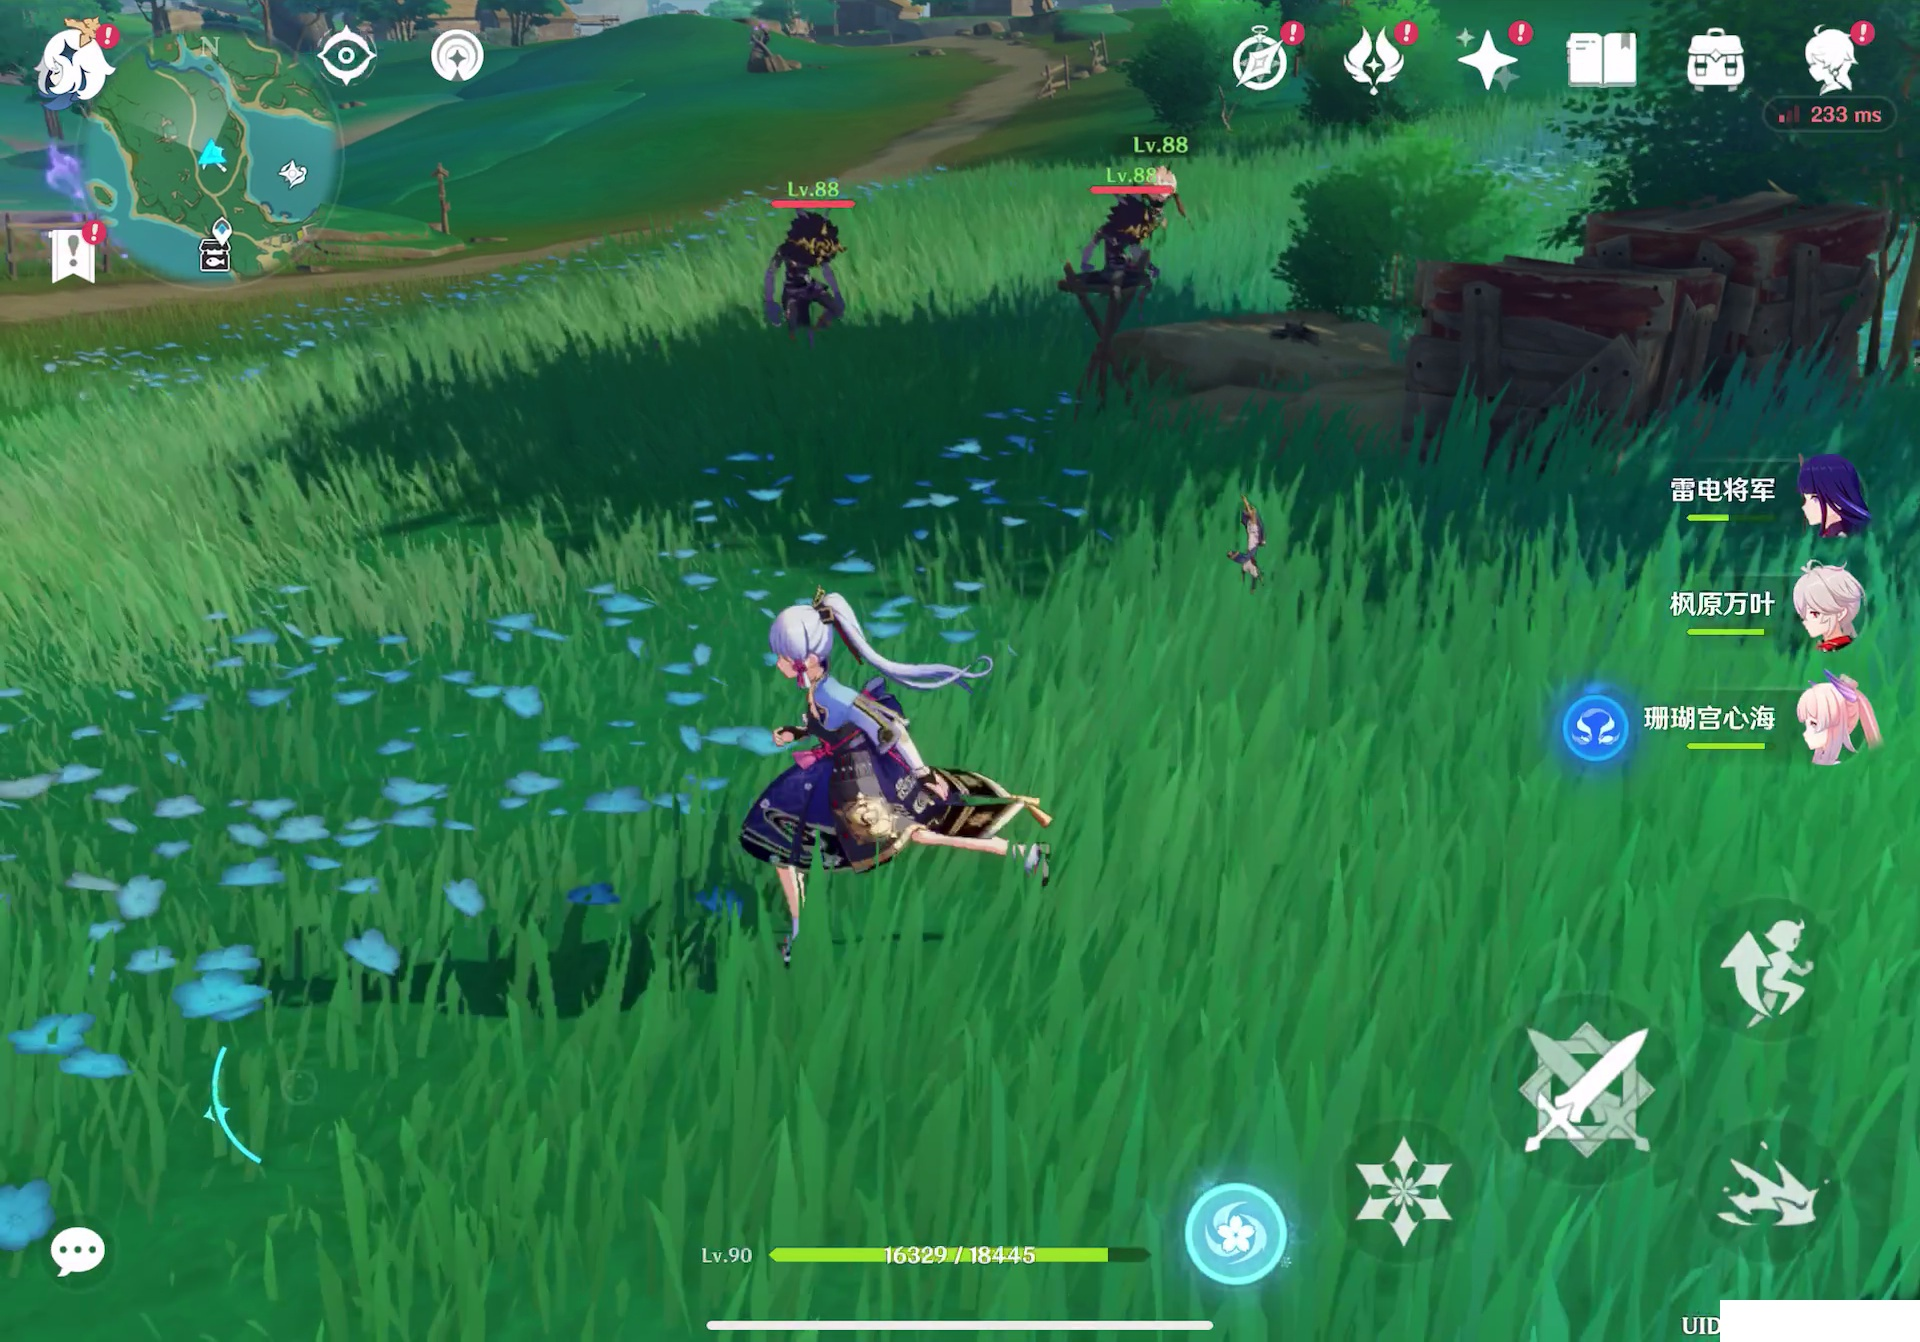丘丘人: (759, 209, 859, 341), (1090, 197, 1164, 286), (1142, 163, 1188, 233)
神里绫龟: (697, 576, 1077, 990)
